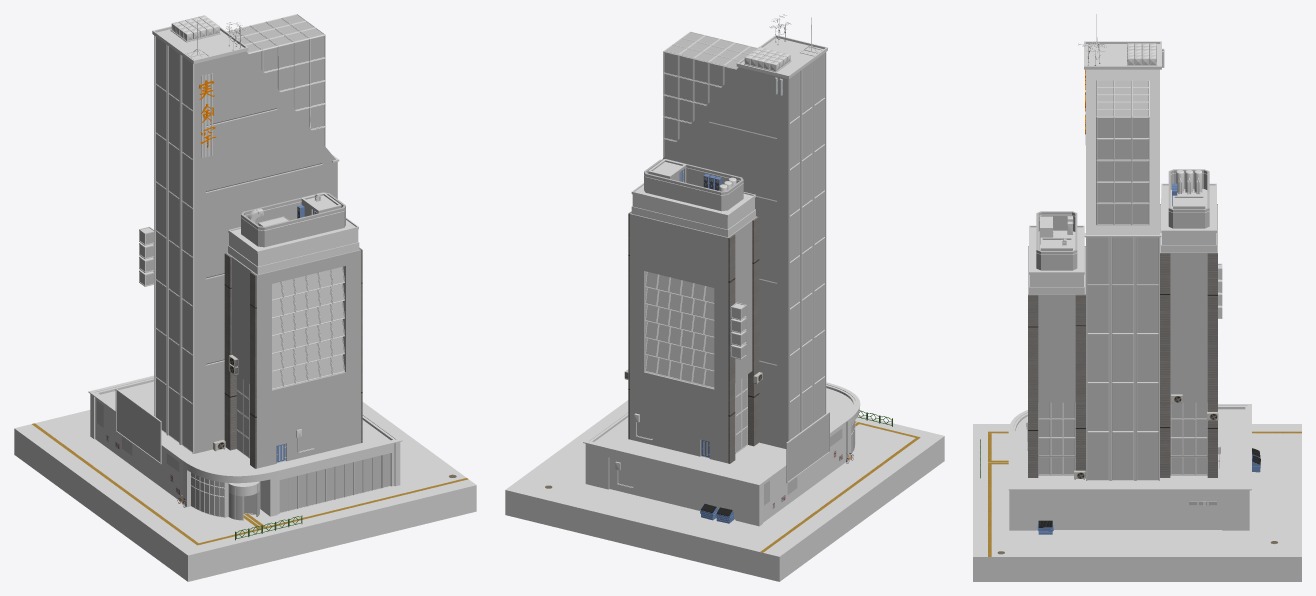
Rendered from KB3D_NTT_BldgMD_B.fbx.
The picture shows the model from 3 angles, left to right: view 1: azimuth 30°, elevation 25°; view 2: azimuth 150°, elevation 25°; view 3: azimuth 270°, elevation 25°; orthographic projection. The views are drawn at different scales.
Visible parts, largest first — view 1: KB3D_NTT_BldgMD_B_BuildingB, KB3D_NTT_BldgMD_B_BuildingC, KB3D_NTT_BldgMD_B_Main, KB3D_NTT_BldgMD_B_BuildingA, KB3D_NTT_BldgMD_B_Billboard, KB3D_NTT_BldgMD_B_BuildingD; view 2: KB3D_NTT_BldgMD_B_BuildingB, KB3D_NTT_BldgMD_B_BuildingD, KB3D_NTT_BldgMD_B_Main, KB3D_NTT_BldgMD_B_BuildingA, KB3D_NTT_BldgMD_B_Billboard; view 3: KB3D_NTT_BldgMD_B_BuildingB, KB3D_NTT_BldgMD_B_Main, KB3D_NTT_BldgMD_B_BuildingD, KB3D_NTT_BldgMD_B_BuildingA, KB3D_NTT_BldgMD_B_BuildingC.
Part boxes in pixels (bbox=[...]): KB3D_NTT_BldgMD_B_BuildingB: bbox=[152, 14, 339, 453]; KB3D_NTT_BldgMD_B_BuildingC: bbox=[224, 192, 362, 468]; KB3D_NTT_BldgMD_B_Main: bbox=[14, 402, 476, 581]; KB3D_NTT_BldgMD_B_BuildingA: bbox=[88, 375, 402, 520]; KB3D_NTT_BldgMD_B_Billboard: bbox=[115, 388, 161, 464]; KB3D_NTT_BldgMD_B_BuildingD: bbox=[139, 226, 153, 286]; KB3D_NTT_BldgMD_B_BuildingB: bbox=[662, 17, 827, 448]; KB3D_NTT_BldgMD_B_BuildingD: bbox=[624, 159, 762, 463]; KB3D_NTT_BldgMD_B_Main: bbox=[505, 400, 944, 581]; KB3D_NTT_BldgMD_B_BuildingA: bbox=[583, 382, 860, 526]; KB3D_NTT_BldgMD_B_Billboard: bbox=[786, 411, 829, 483]; KB3D_NTT_BldgMD_B_BuildingB: bbox=[1084, 14, 1164, 480]; KB3D_NTT_BldgMD_B_Main: bbox=[973, 424, 1301, 581]; KB3D_NTT_BldgMD_B_BuildingD: bbox=[1160, 169, 1222, 477]; KB3D_NTT_BldgMD_B_BuildingA: bbox=[1008, 404, 1260, 534]; KB3D_NTT_BldgMD_B_BuildingC: bbox=[1026, 211, 1085, 479].
Bounding box in the file's own units: 3430 × 5638 × 3578.
